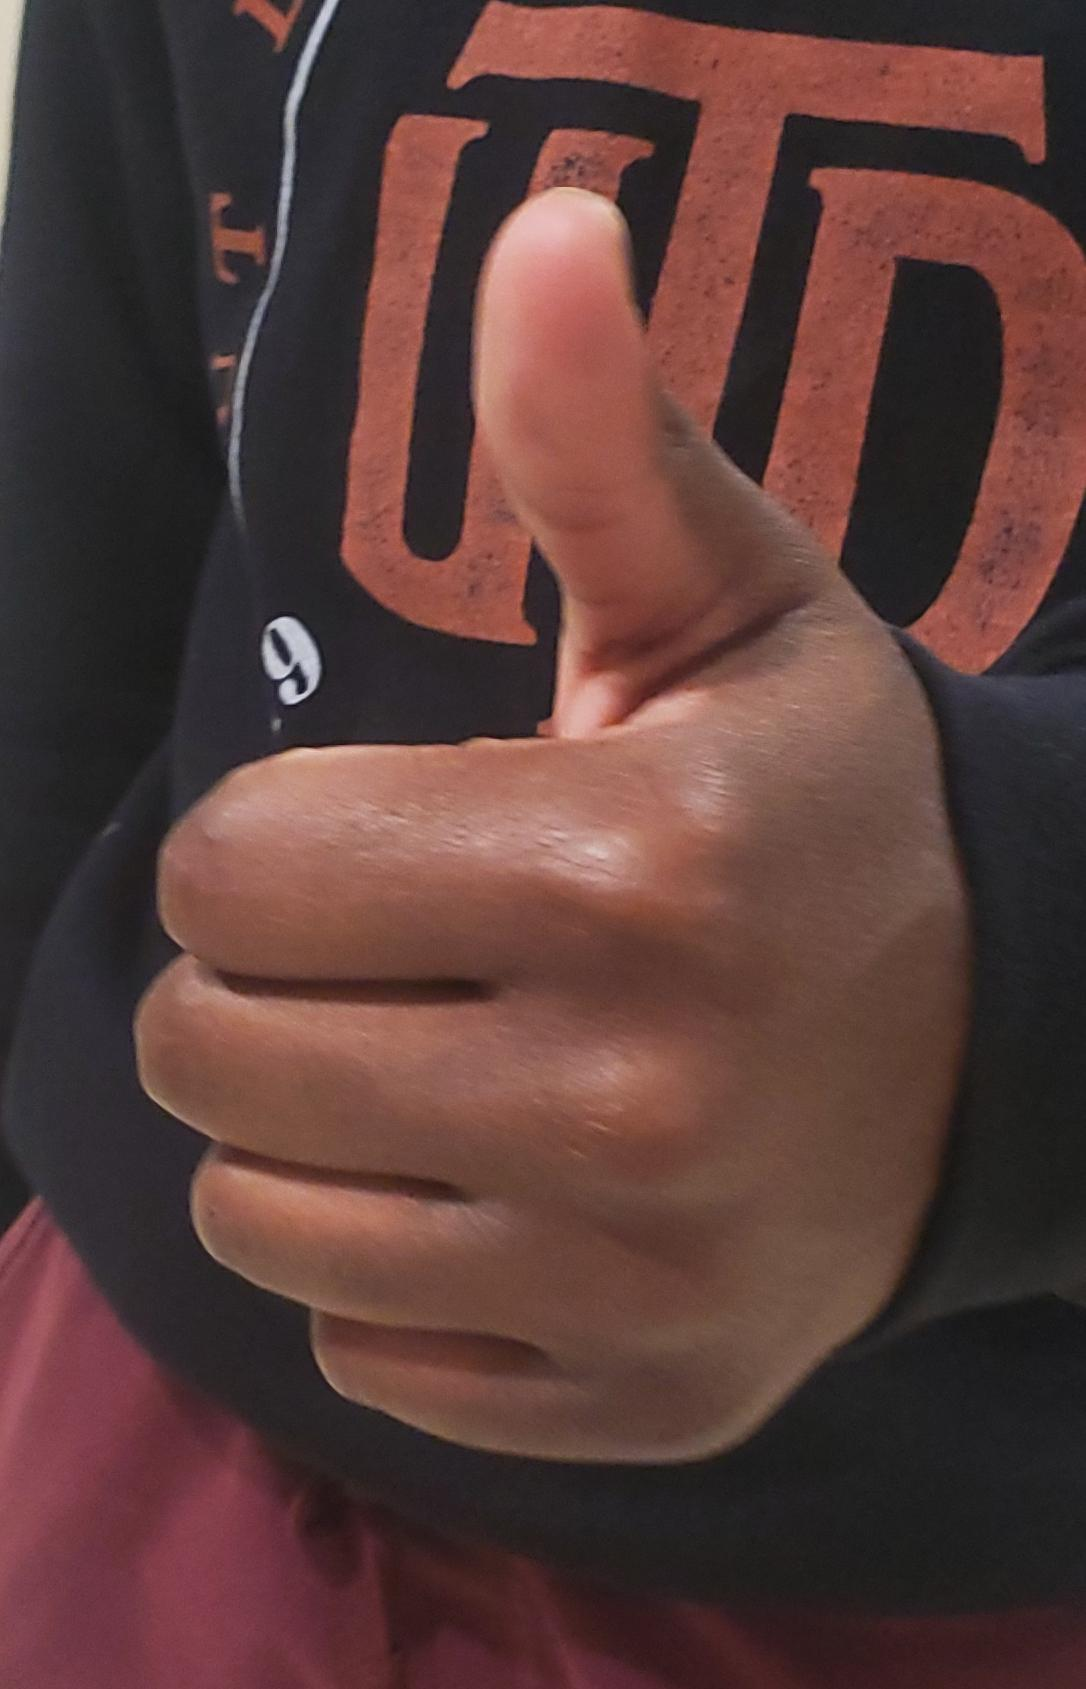up: (0, 1, 1086, 1689)
